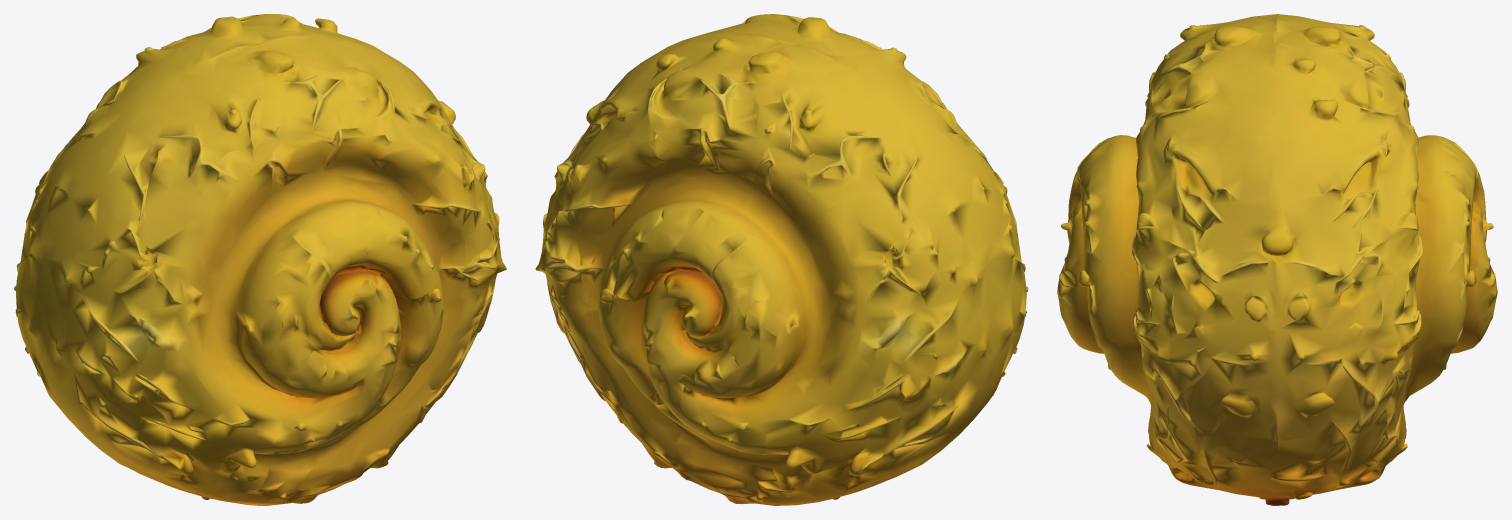
The model's file is thunder_strike.glb.
The picture shows the model from 3 angles, left to right: view 1: azimuth 30°, elevation 25°; view 2: azimuth 150°, elevation 25°; view 3: azimuth 270°, elevation 25°; orthographic projection.
Visible parts, largest first — view 1: tripo_node_1116b280-54d6-4814-b47b-bb1231f0ec56; view 2: tripo_node_1116b280-54d6-4814-b47b-bb1231f0ec56; view 3: tripo_node_1116b280-54d6-4814-b47b-bb1231f0ec56.
Part boxes in pixels (x1=…): tripo_node_1116b280-54d6-4814-b47b-bb1231f0ec56: x1=14, y1=14, x2=506, y2=505; tripo_node_1116b280-54d6-4814-b47b-bb1231f0ec56: x1=535, y1=14, x2=1028, y2=505; tripo_node_1116b280-54d6-4814-b47b-bb1231f0ec56: x1=1057, y1=14, x2=1497, y2=505.
Bounding box in the file's own units: 0.9797 × 0.9667 × 0.8713.
1 material, 1 textured.
